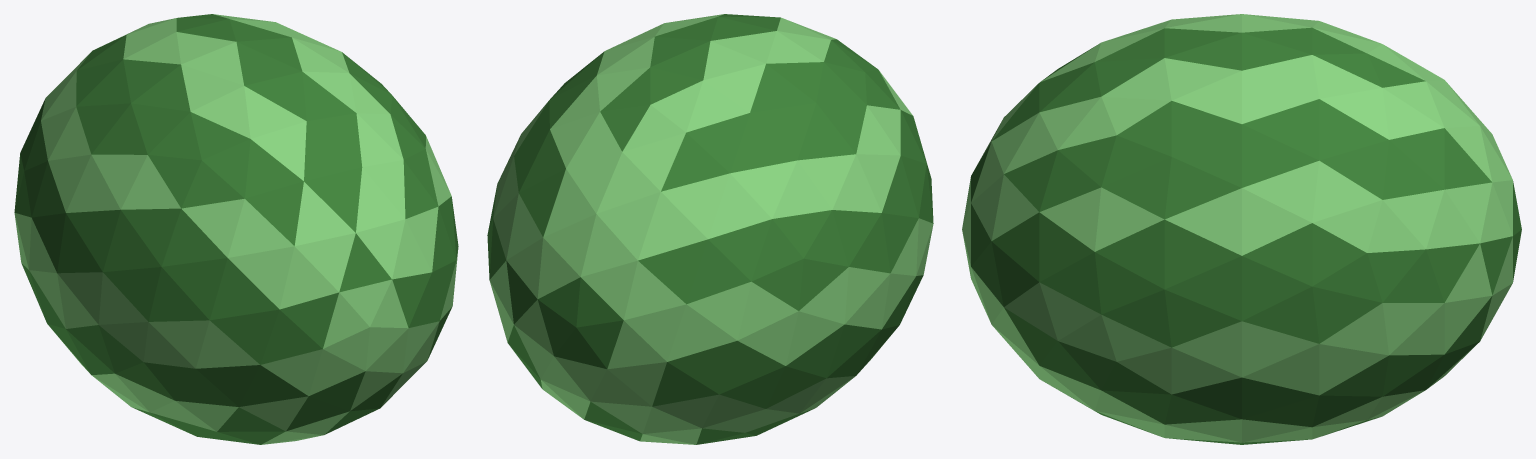
Rendered from melon.fbx.
The picture shows the model from 3 angles, left to right: view 1: azimuth 30°, elevation 25°; view 2: azimuth 150°, elevation 25°; view 3: azimuth 270°, elevation 25°; orthographic projection. The views are drawn at different scales.
Parts seen in each view (by area): view 1: Icosphere.001; view 2: Icosphere.001; view 3: Icosphere.001.
Boxes of the visible parts, x1,y1,x2,y2 form: Icosphere.001: (14,14,458,444); Icosphere.001: (487,14,933,444); Icosphere.001: (962,14,1521,444).
Size of the model in its own units: 2 by 2 by 2.58.
